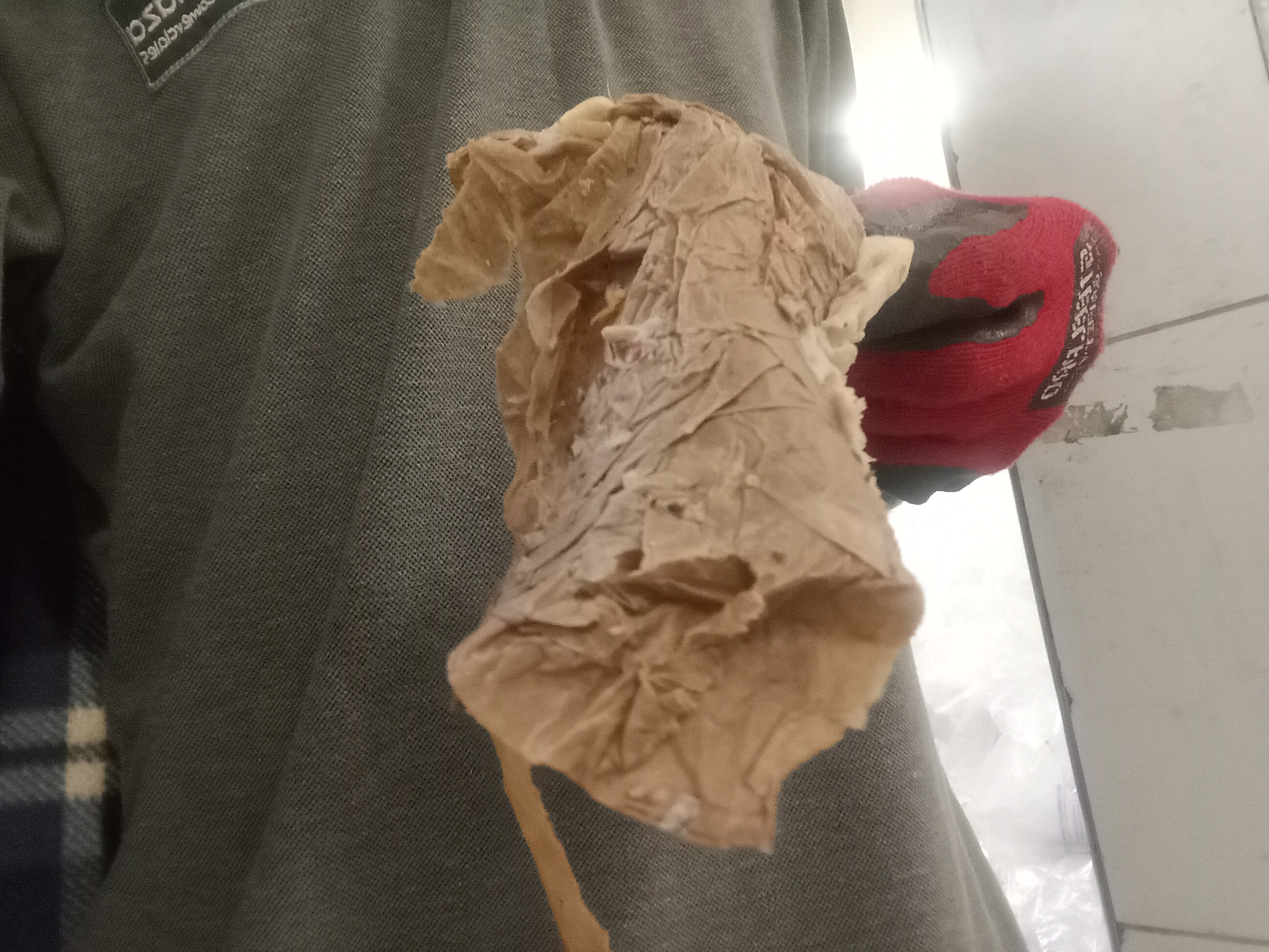Ordinario: (408, 93, 924, 858)
